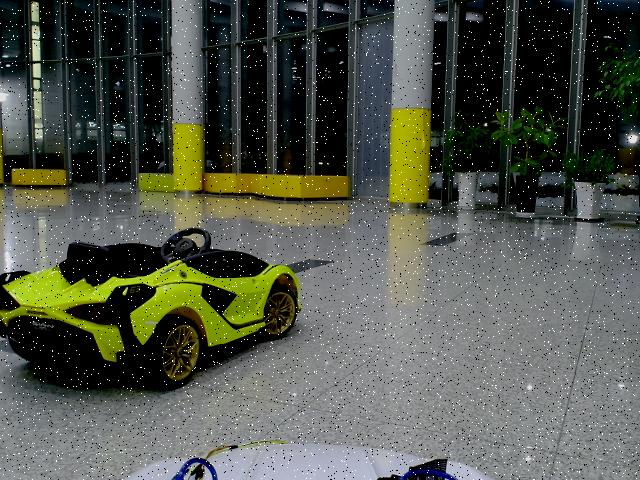car: (1, 227, 302, 392)
